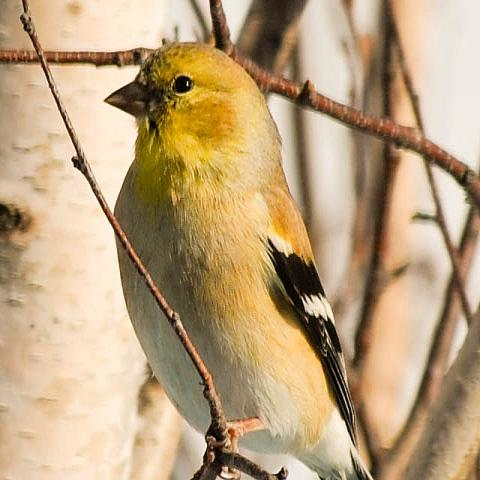bird: (101, 38, 375, 477)
